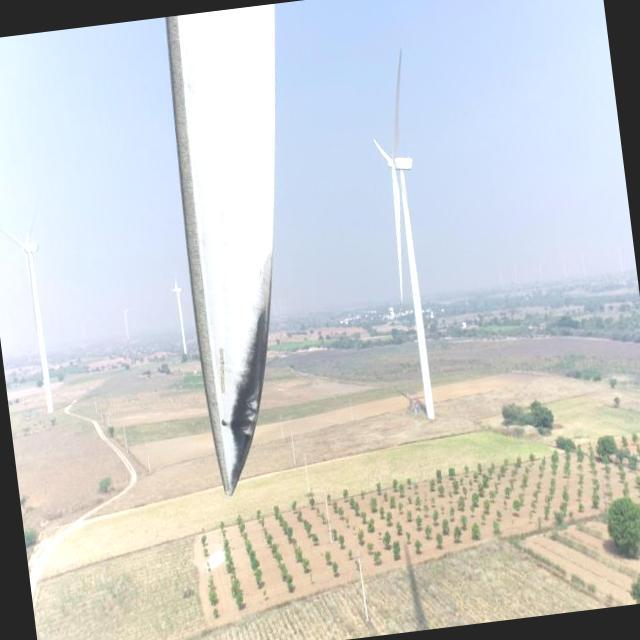Dirt: (174, 248, 280, 497)
Oil LEAKAGE: (228, 308, 268, 505)
Pin Hole: (219, 416, 228, 431)
